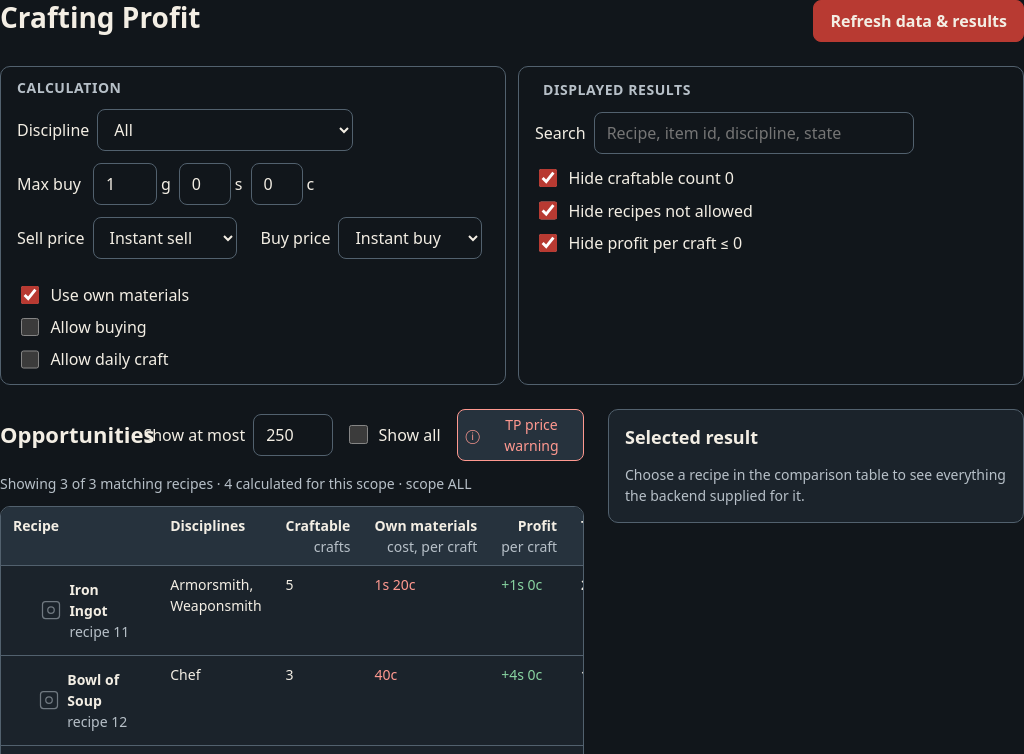
it: CraftingProfitScreen › opensTheDetailForTheChosenRecipeWithAKeyboardOperableControl
Expected: the text with test id "detail-placeholder" shows "Choose a recipe", [625,465,1006,505]
Click the button with test id "select-row" showing "Iron Ingot recipe 11" at (80, 610), box [13,574,146,647]
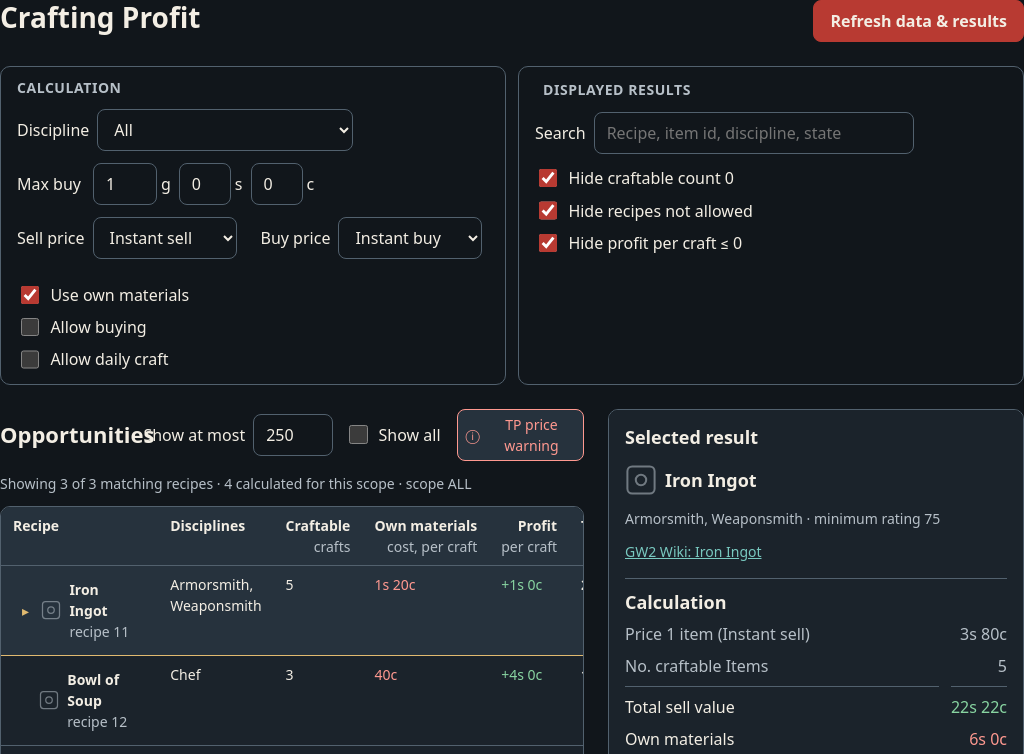
Now the heading with test id "detail-name" reads "Iron Ingot", box [665,468,757,492]
